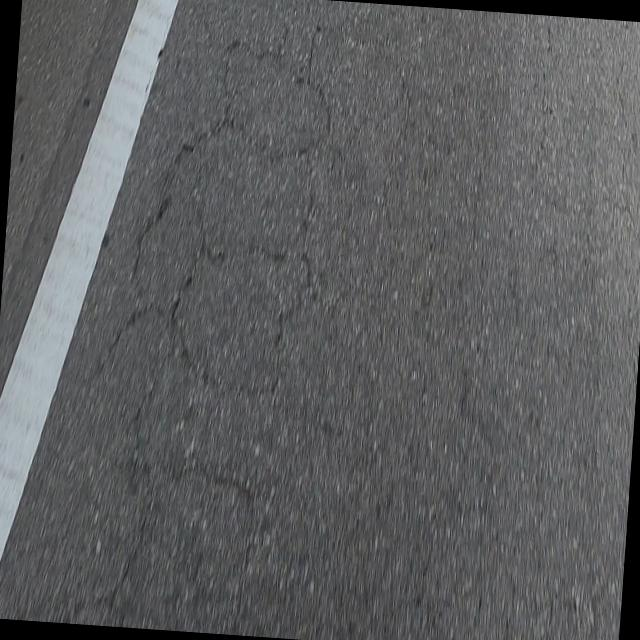Retak-Buaya: (98, 27, 343, 503)
